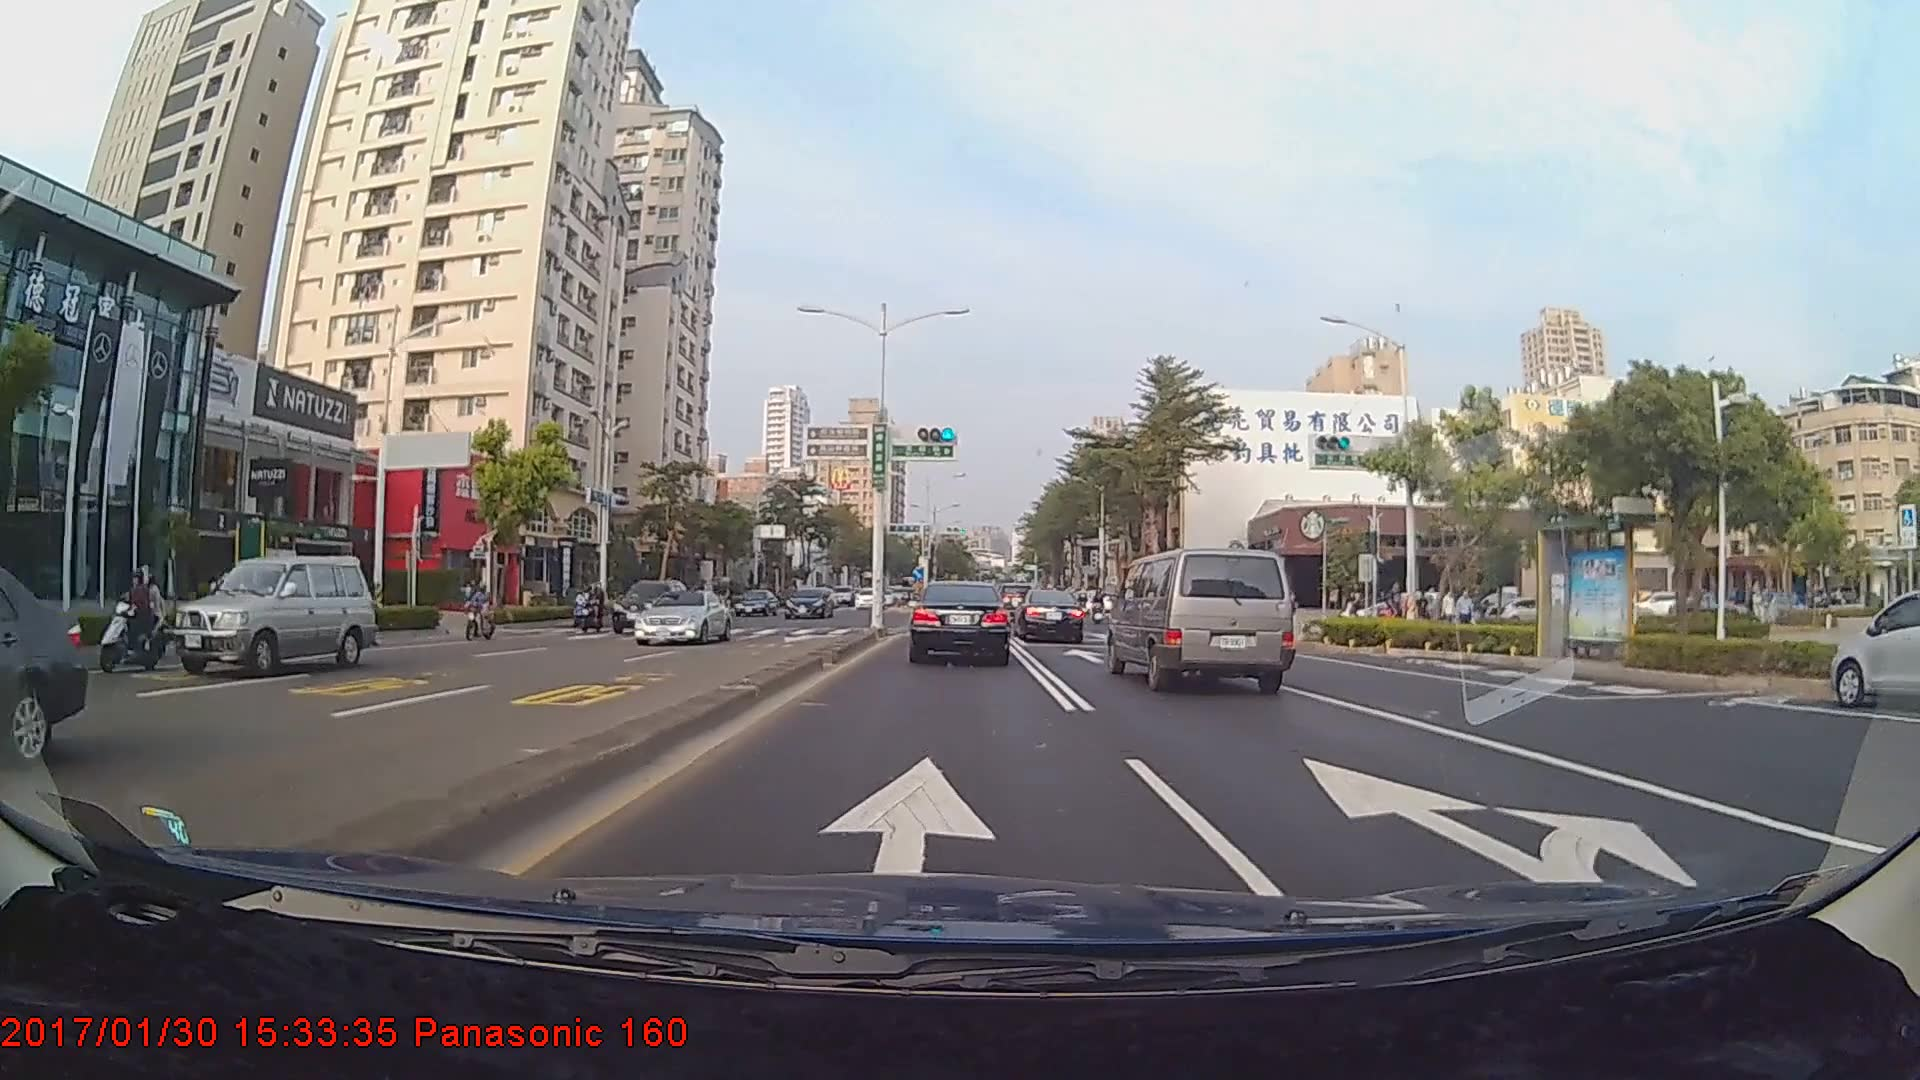rider: (82, 559, 173, 677), (460, 577, 504, 646), (573, 578, 603, 636), (566, 586, 592, 629)
vehicle: (1107, 543, 1298, 693), (171, 551, 377, 678), (0, 551, 88, 795), (1828, 587, 1920, 714), (910, 579, 1009, 663), (632, 590, 729, 646), (609, 576, 689, 634), (1014, 589, 1085, 643), (785, 586, 836, 620), (734, 588, 778, 615)
